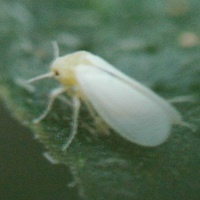insect: (27, 44, 190, 145)
